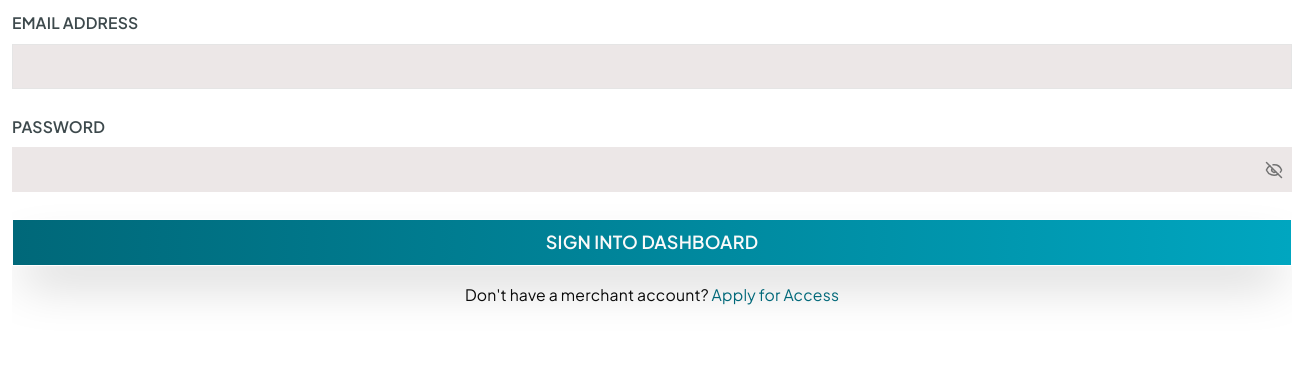
Scenario: LoginForm › renders validation error then submitted with empty fields
Click the button "Sign Into Dashboard" at x=652, y=242, box [12,219,1292,266]
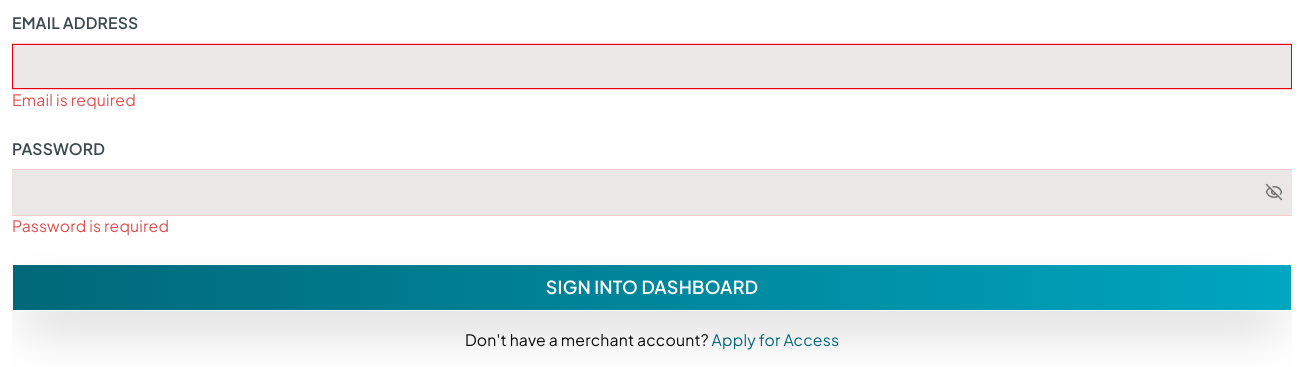
expect the text "Email is required" is shown: met, box [12,90,136,108]
expect the text "Password is required" is shown: met, box [12,216,169,234]
